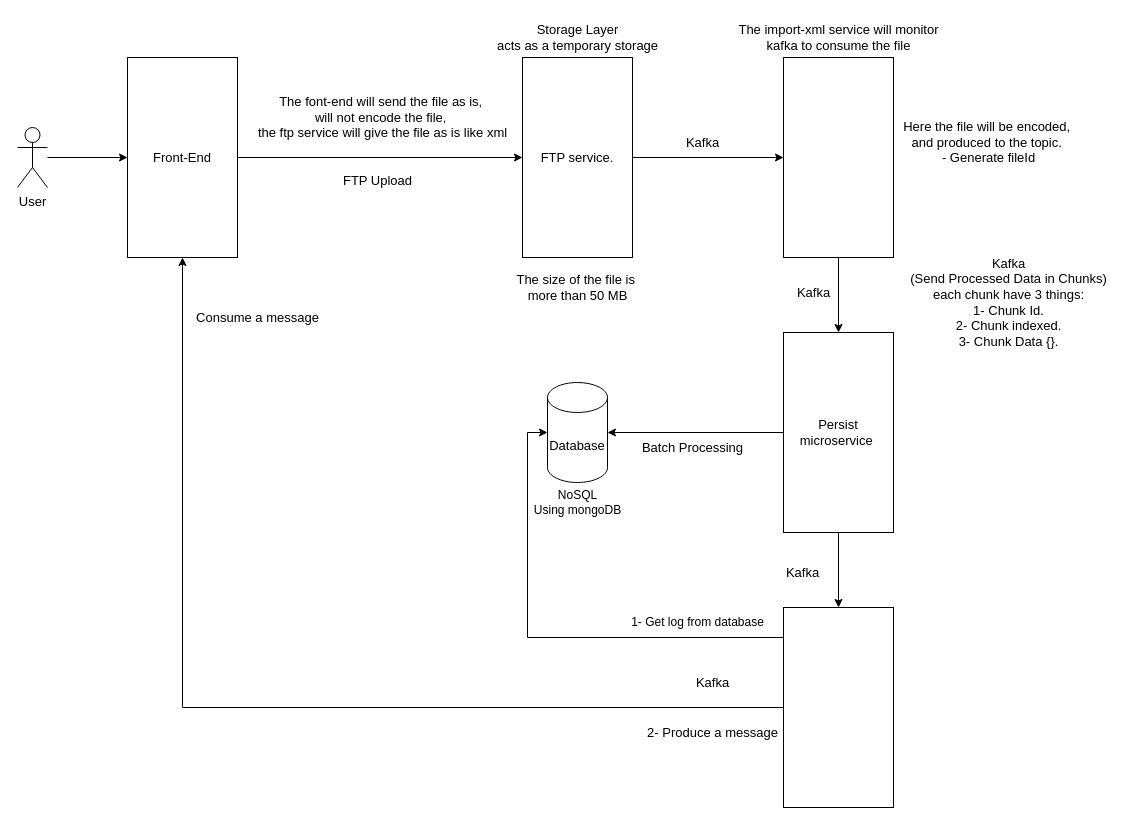
Some shapes in this 1136 by 825 pixel diagram are drawn without their labels. Each missing label, with the centre of its shape:
"Import XML Microservice (Parsing)" goes at (838,157).
"Notification Microservice" goes at (838,707).
